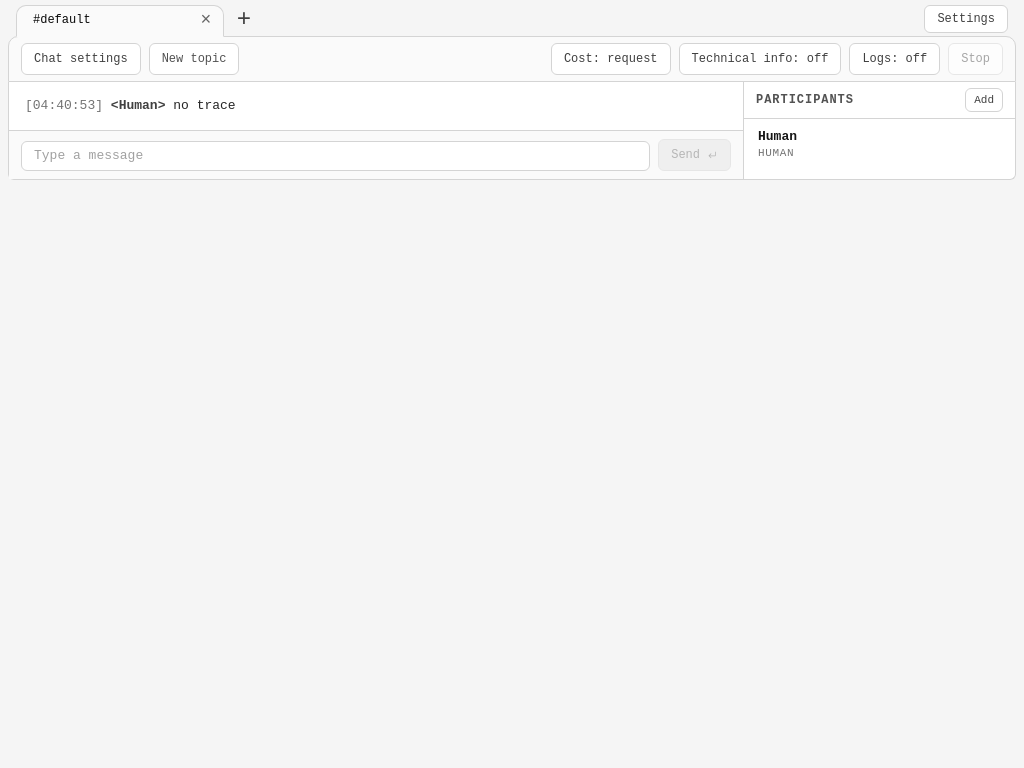
it: MultiAgentChat request inspection › shows no request data on Input tab for a human message
Click the button with class "chat-line-time-active" at (64, 106), box [25,98,103,113]
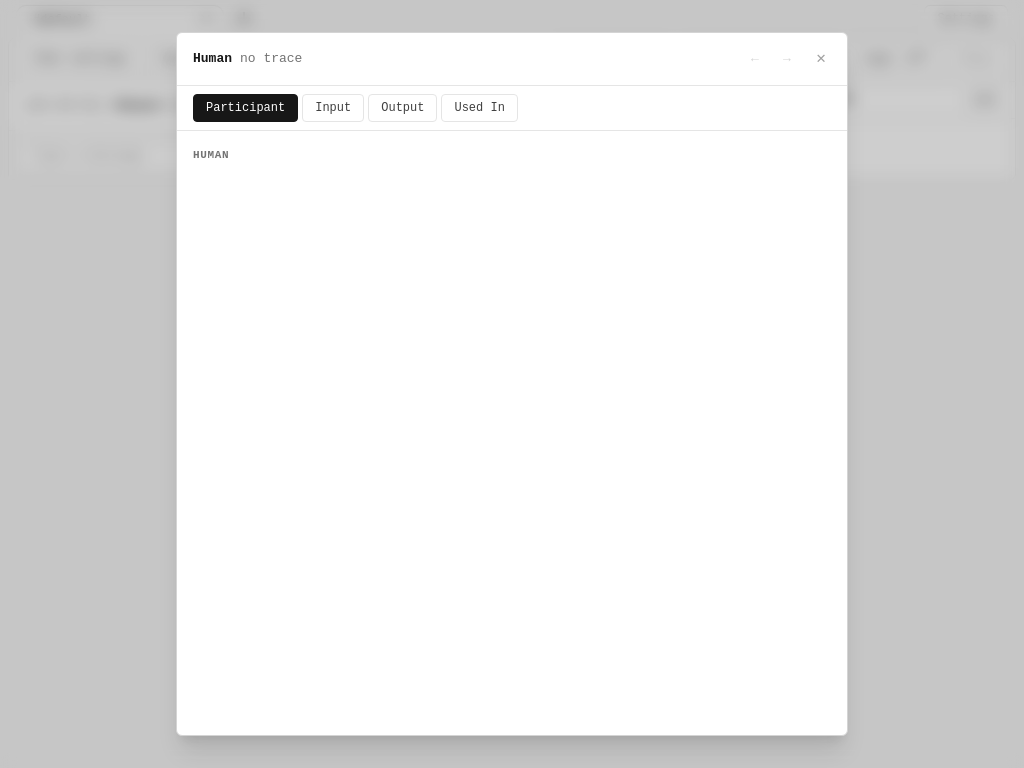
expect the button "Input" is shown: met
Click the button "Input" at (333, 108), box [302,94,364,122]
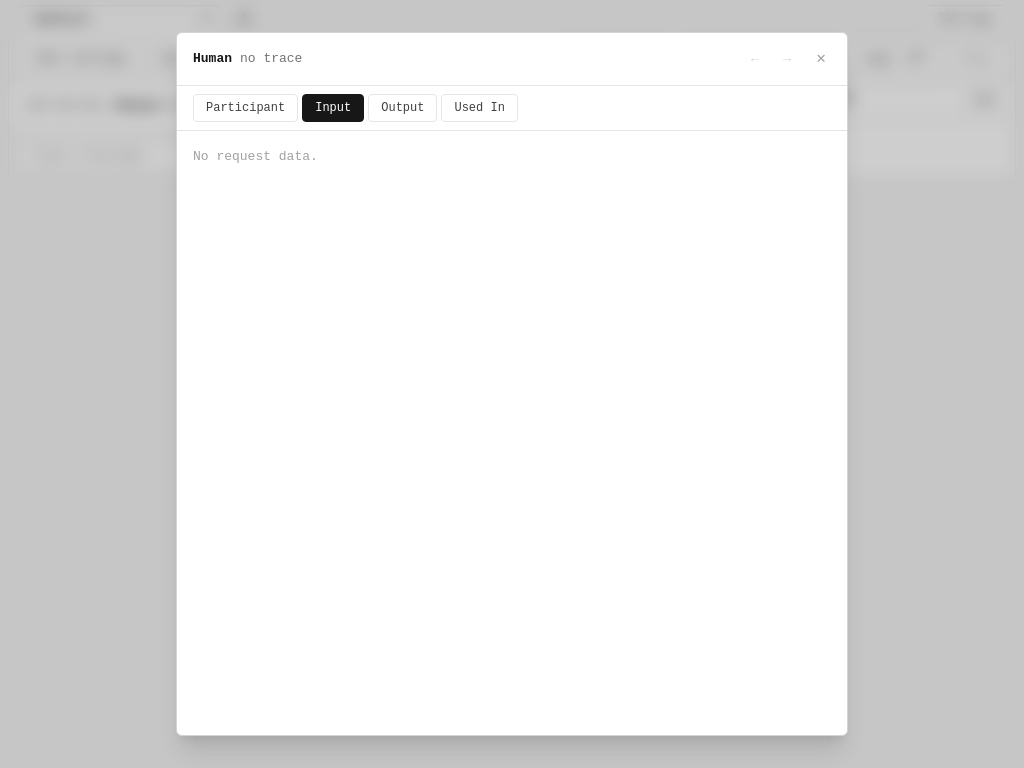
expect the text "No request data" is shown: met, box [193,149,318,164]
